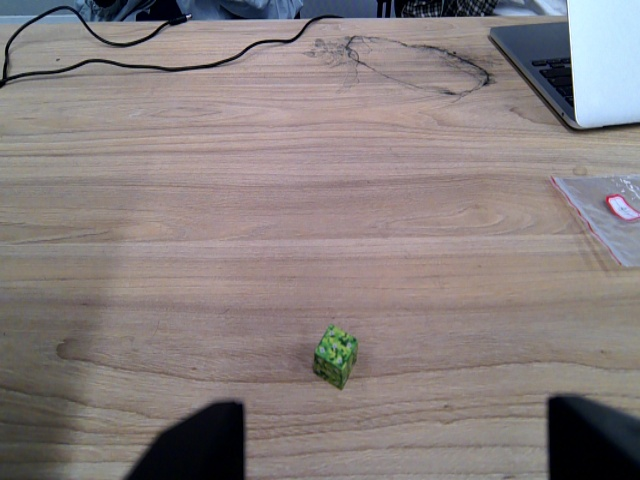grass: (311, 324, 363, 395)
